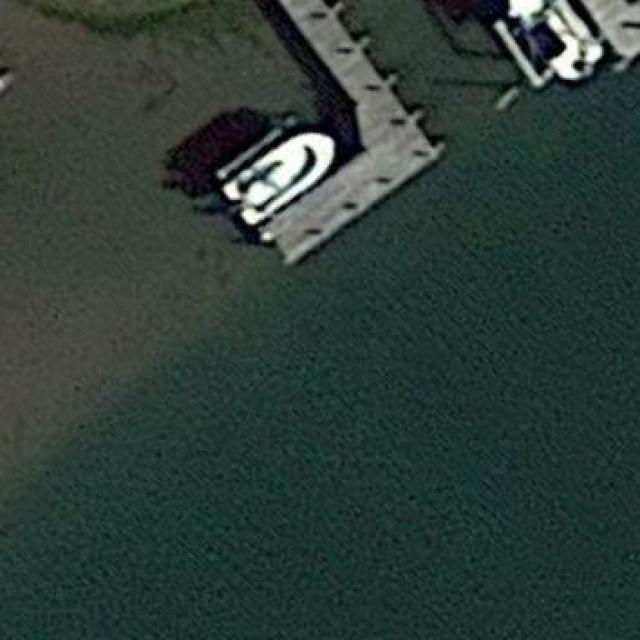boat: (215, 131, 338, 225)
